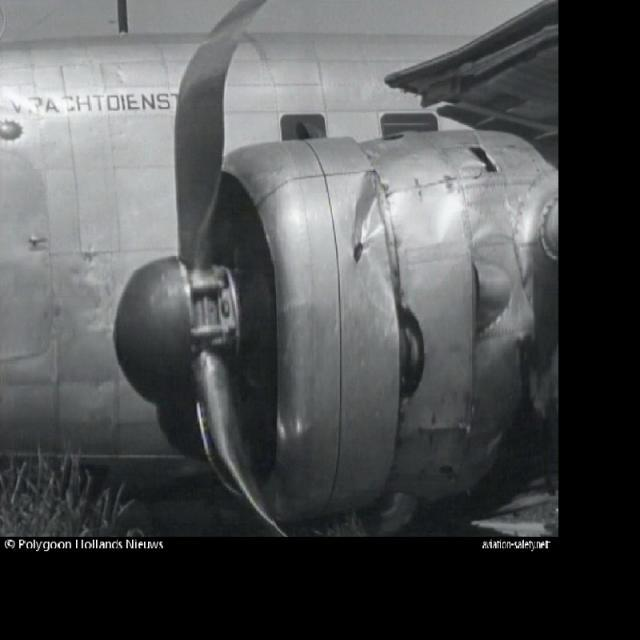dent: (341, 179, 384, 289)
